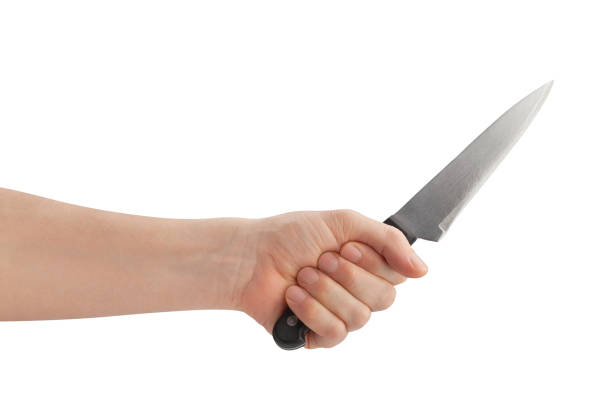knife: (270, 79, 556, 350)
